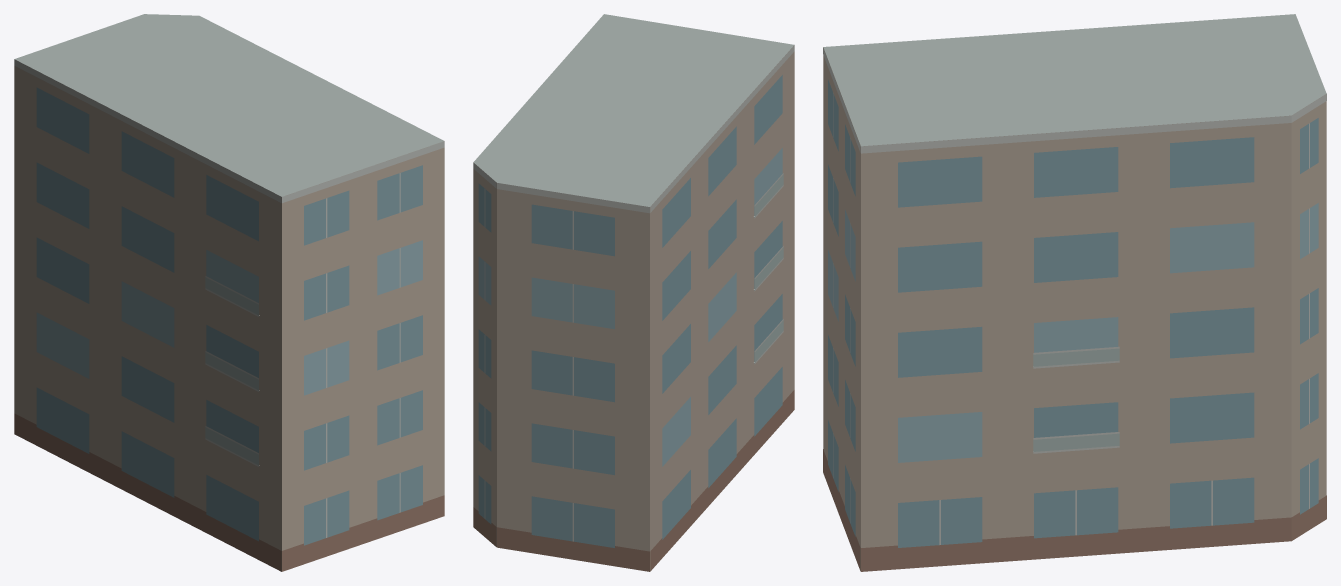
File: survey-upis-32935323.glb
3 renders of one model, left to right at view 1: azimuth 30°, elevation 25°; view 2: azimuth 150°, elevation 25°; view 3: azimuth 270°, elevation 25°, orthographic. The views are drawn at different scales.
Parts seen in each view (by area): view 1: survey-upis-32935323.tmp; view 2: survey-upis-32935323.tmp; view 3: survey-upis-32935323.tmp.
Boxes of the visible parts, left/top/right/bottom form: survey-upis-32935323.tmp: left=14, top=14, right=444, bottom=571; survey-upis-32935323.tmp: left=473, top=14, right=794, bottom=571; survey-upis-32935323.tmp: left=823, top=14, right=1326, bottom=571.
Bounding box in the file's own units: 9.48 × 14.2 × 15.24.
